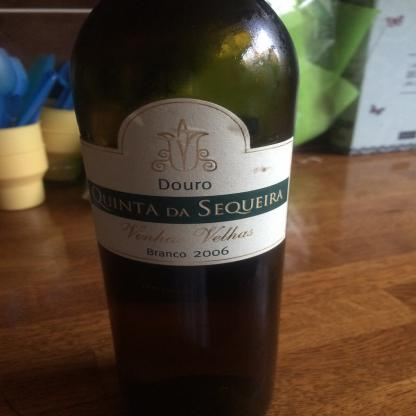drinking: (75, 0, 300, 415)
